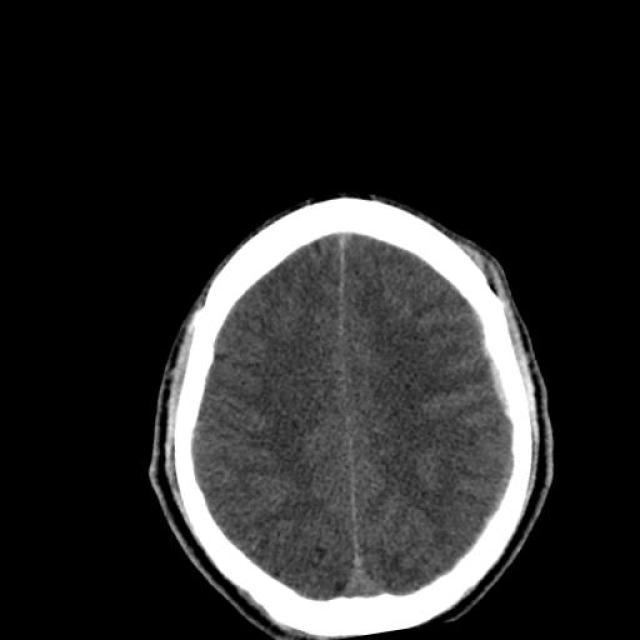Subdural: (454, 284, 540, 444)
